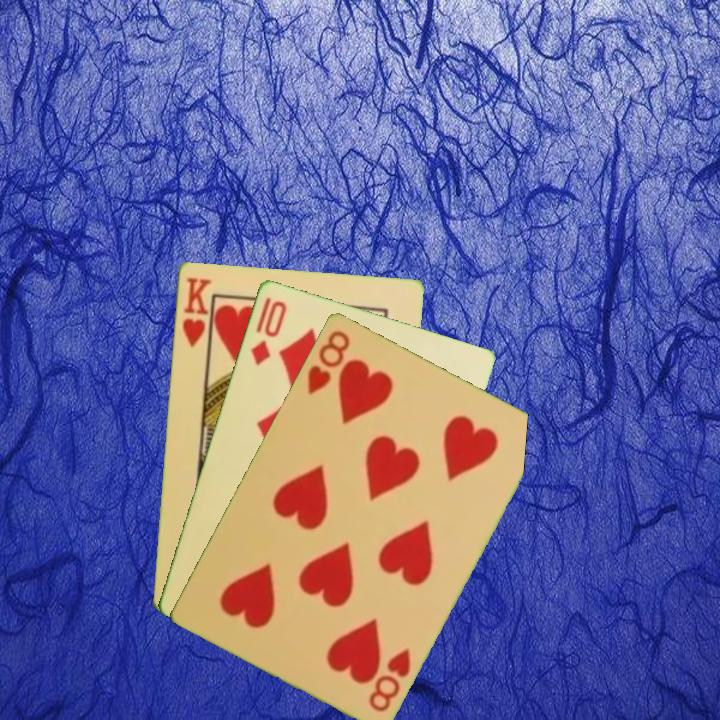10d: (247, 296, 290, 368)
8h: (303, 326, 353, 397), (365, 644, 414, 715)
Kh: (178, 273, 214, 357)
